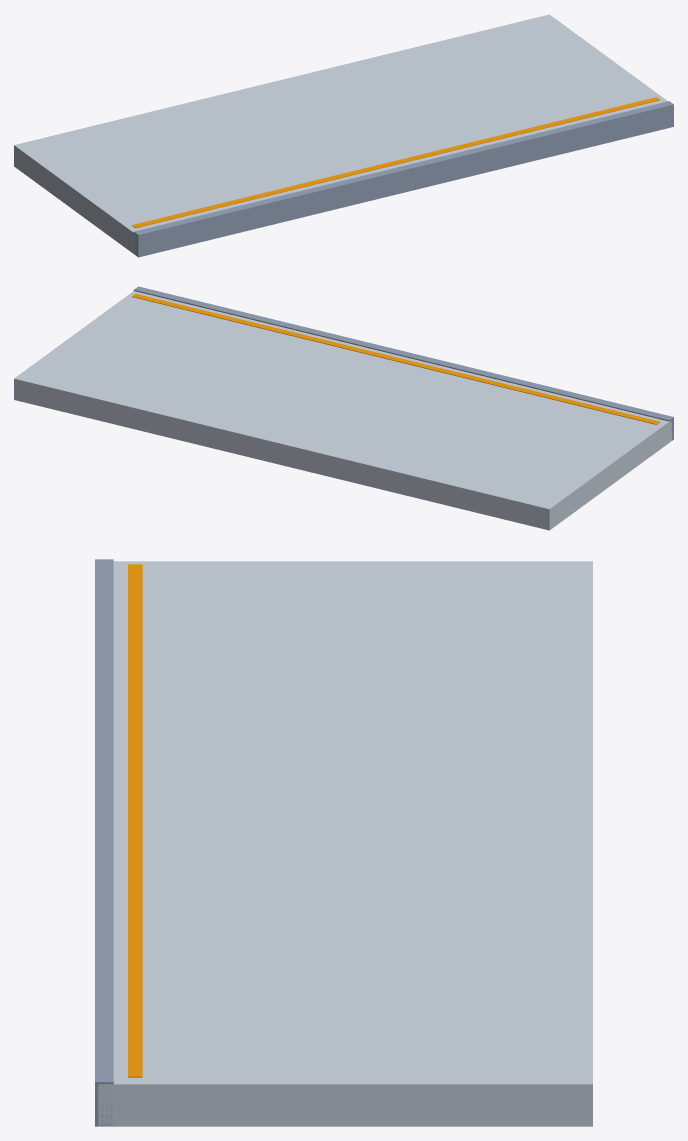
The model's file is station_platform.glb.
3 renders of one model, top to bottom at view 1: azimuth 30°, elevation 25°; view 2: azimuth 150°, elevation 25°; view 3: azimuth 270°, elevation 25°, orthographic. The views are drawn at different scales.
Visible parts, largest first — view 1: station_platform; view 2: station_platform; view 3: station_platform.
Boxes of the visible parts, x1,y1,x2,y2 form: station_platform: (14,14,673,257); station_platform: (14,286,673,530); station_platform: (95,559,592,1126).
Bounding box in the file's own units: 10 × 0.4 × 4.03.
